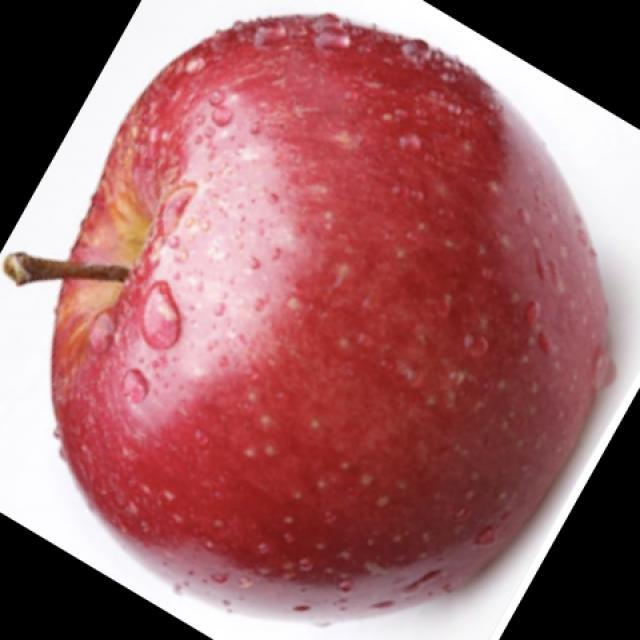Fresh Apple: (61, 33, 640, 593)
